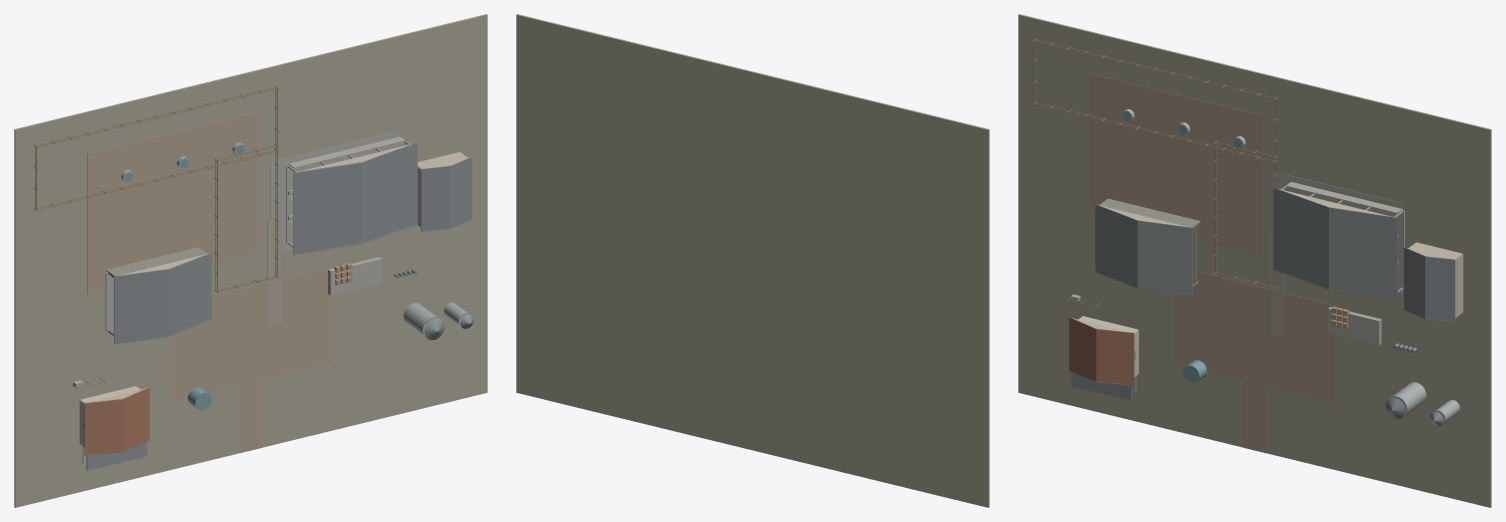
Rendered from LRP05_prepared.glb.
The picture shows the model from 3 angles, left to right: view 1: azimuth 30°, elevation 25°; view 2: azimuth 150°, elevation 25°; view 3: azimuth 330°, elevation 25°; orthographic projection.
Visible parts, largest first — view 1: TERRENO_0000_SOLO_ESTUDO_SEM_VEGETACAO, TERRENO_0005_AREA_CURRAL, TERRENO_0002_TERREIRO_PRINCIPAL, ARQUITETURA_0048_GALPAO_ORDENHA_AGUA_1, ARQUITETURA_0049_GALPAO_ORDENHA_AGUA_2, ARQUITETURA_0111_GALPAO_FENO_AGUA_1, ARQUITETURA_0112_GALPAO_FENO_AGUA_2, ARQUITETURA_0020_CASA_PRODUTOR_AGUA_1, TERRENO_0003_PISO_ORDENHA, ARQUITETURA_0093_SALA_RESFRIAMENTO_AGUA_1, TERRENO_0001_ACESSO_TERRA, TERRENO_0004_CAMINHO_CASA_ORDENHA (+8 smaller); view 2: TERRENO_0000_SOLO_ESTUDO_SEM_VEGETACAO; view 3: TERRENO_0000_SOLO_ESTUDO_SEM_VEGETACAO, TERRENO_0005_AREA_CURRAL, TERRENO_0002_TERREIRO_PRINCIPAL, ARQUITETURA_0049_GALPAO_ORDENHA_AGUA_2, ARQUITETURA_0048_GALPAO_ORDENHA_AGUA_1, ARQUITETURA_0112_GALPAO_FENO_AGUA_2, ARQUITETURA_0111_GALPAO_FENO_AGUA_1, ARQUITETURA_0021_CASA_PRODUTOR_AGUA_2, ARQUITETURA_0094_SALA_RESFRIAMENTO_AGUA_2, TERRENO_0001_ACESSO_TERRA, ARQUITETURA_0020_CASA_PRODUTOR_AGUA_1, ARQUITETURA_0093_SALA_RESFRIAMENTO_AGUA_1 (+9 smaller).
Part boxes in pixels (<box>): TERRENO_0000_SOLO_ESTUDO_SEM_VEGETACAO: <box>14,14,487,507</box>; TERRENO_0005_AREA_CURRAL: <box>87,112,258,294</box>; TERRENO_0002_TERREIRO_PRINCIPAL: <box>170,266,332,402</box>; ARQUITETURA_0048_GALPAO_ORDENHA_AGUA_1: <box>293,162,361,254</box>; ARQUITETURA_0049_GALPAO_ORDENHA_AGUA_2: <box>362,142,417,244</box>; ARQUITETURA_0111_GALPAO_FENO_AGUA_1: <box>114,269,169,344</box>; ARQUITETURA_0112_GALPAO_FENO_AGUA_2: <box>169,252,211,336</box>; ARQUITETURA_0020_CASA_PRODUTOR_AGUA_1: <box>84,399,122,456</box>; TERRENO_0003_PISO_ORDENHA: <box>270,131,399,251</box>; ARQUITETURA_0093_SALA_RESFRIAMENTO_AGUA_1: <box>421,166,450,232</box>; TERRENO_0001_ACESSO_TERRA: <box>240,380,263,453</box>; TERRENO_0004_CAMINHO_CASA_ORDENHA: <box>267,215,281,325</box>; TERRENO_0000_SOLO_ESTUDO_SEM_VEGETACAO: <box>516,14,989,507</box>; TERRENO_0000_SOLO_ESTUDO_SEM_VEGETACAO: <box>1018,14,1491,507</box>; TERRENO_0005_AREA_CURRAL: <box>1090,73,1261,255</box>; TERRENO_0002_TERREIRO_PRINCIPAL: <box>1173,271,1335,402</box>; ARQUITETURA_0049_GALPAO_ORDENHA_AGUA_2: <box>1329,207,1397,300</box>; ARQUITETURA_0048_GALPAO_ORDENHA_AGUA_1: <box>1273,187,1328,289</box>; ARQUITETURA_0112_GALPAO_FENO_AGUA_2: <box>1137,220,1192,295</box>; ARQUITETURA_0111_GALPAO_FENO_AGUA_1: <box>1095,204,1137,288</box>; ARQUITETURA_0021_CASA_PRODUTOR_AGUA_2: <box>1096,329,1134,386</box>; ARQUITETURA_0094_SALA_RESFRIAMENTO_AGUA_2: <box>1425,256,1455,322</box>; TERRENO_0001_ACESSO_TERRA: <box>1242,380,1265,453</box>; ARQUITETURA_0020_CASA_PRODUTOR_AGUA_1: <box>1069,317,1096,381</box>; ARQUITETURA_0093_SALA_RESFRIAMENTO_AGUA_1: <box>1404,247,1425,318</box>.
Size of the model in its own units: 102 by 78 by 9.44.
